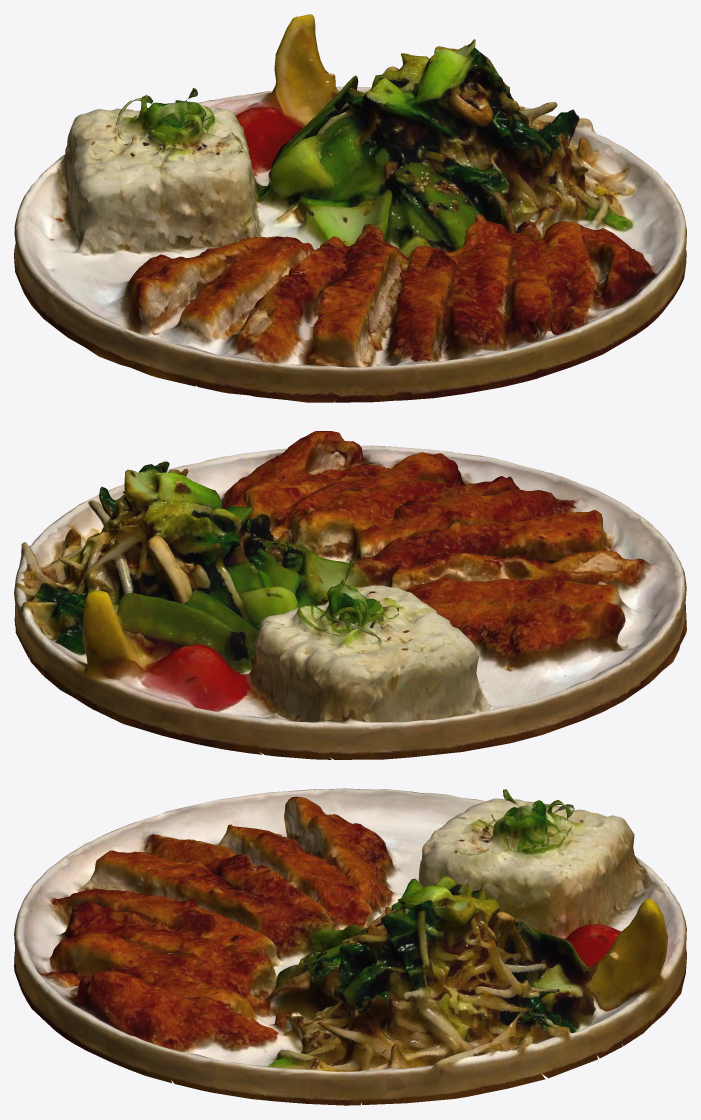
The picture shows the model from 3 angles, top to bottom: view 1: azimuth 30°, elevation 25°; view 2: azimuth 150°, elevation 25°; view 3: azimuth 270°, elevation 25°; orthographic projection.
Parts seen in each view (by area): view 1: geom; view 2: geom; view 3: geom.
Part boxes in pixels (x1,y1,x2,y2): geom: (14,14,686,402); geom: (14,431,686,759); geom: (14,788,686,1105).
Bounding box in the file's own units: 0.2663 × 0.0624 × 0.2659.
1 material, 1 textured.
